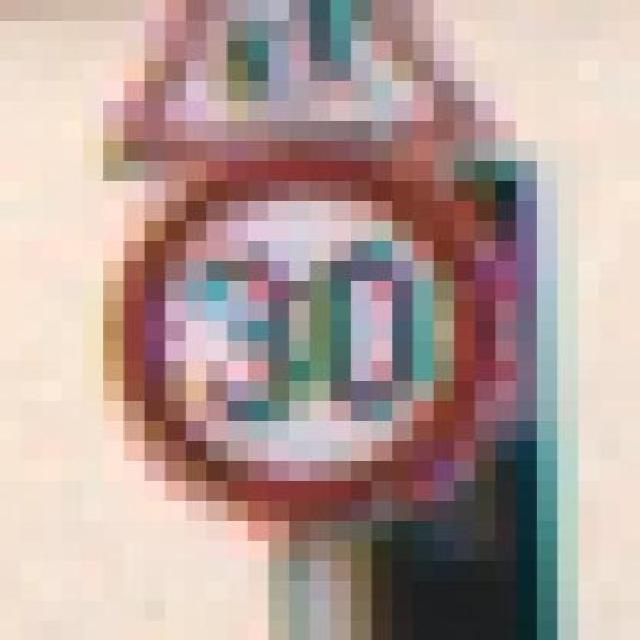forb_speed_over_30: (126, 158, 492, 511)
